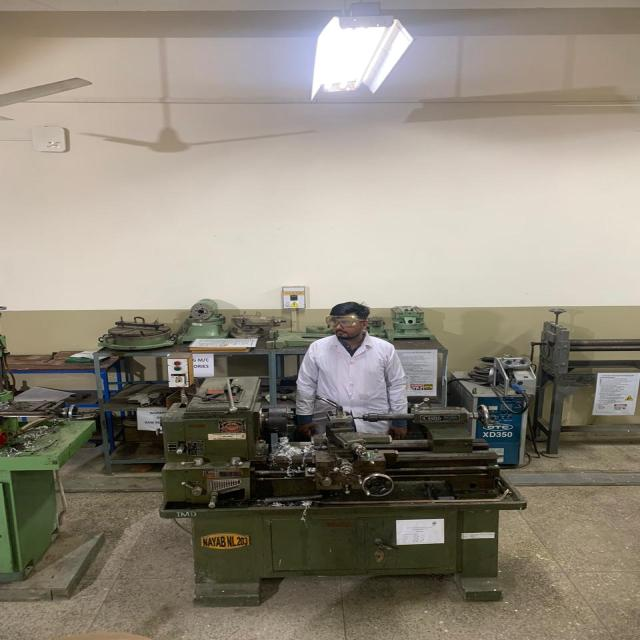googles: (324, 314, 365, 328)
labcoat: (296, 331, 409, 443)
